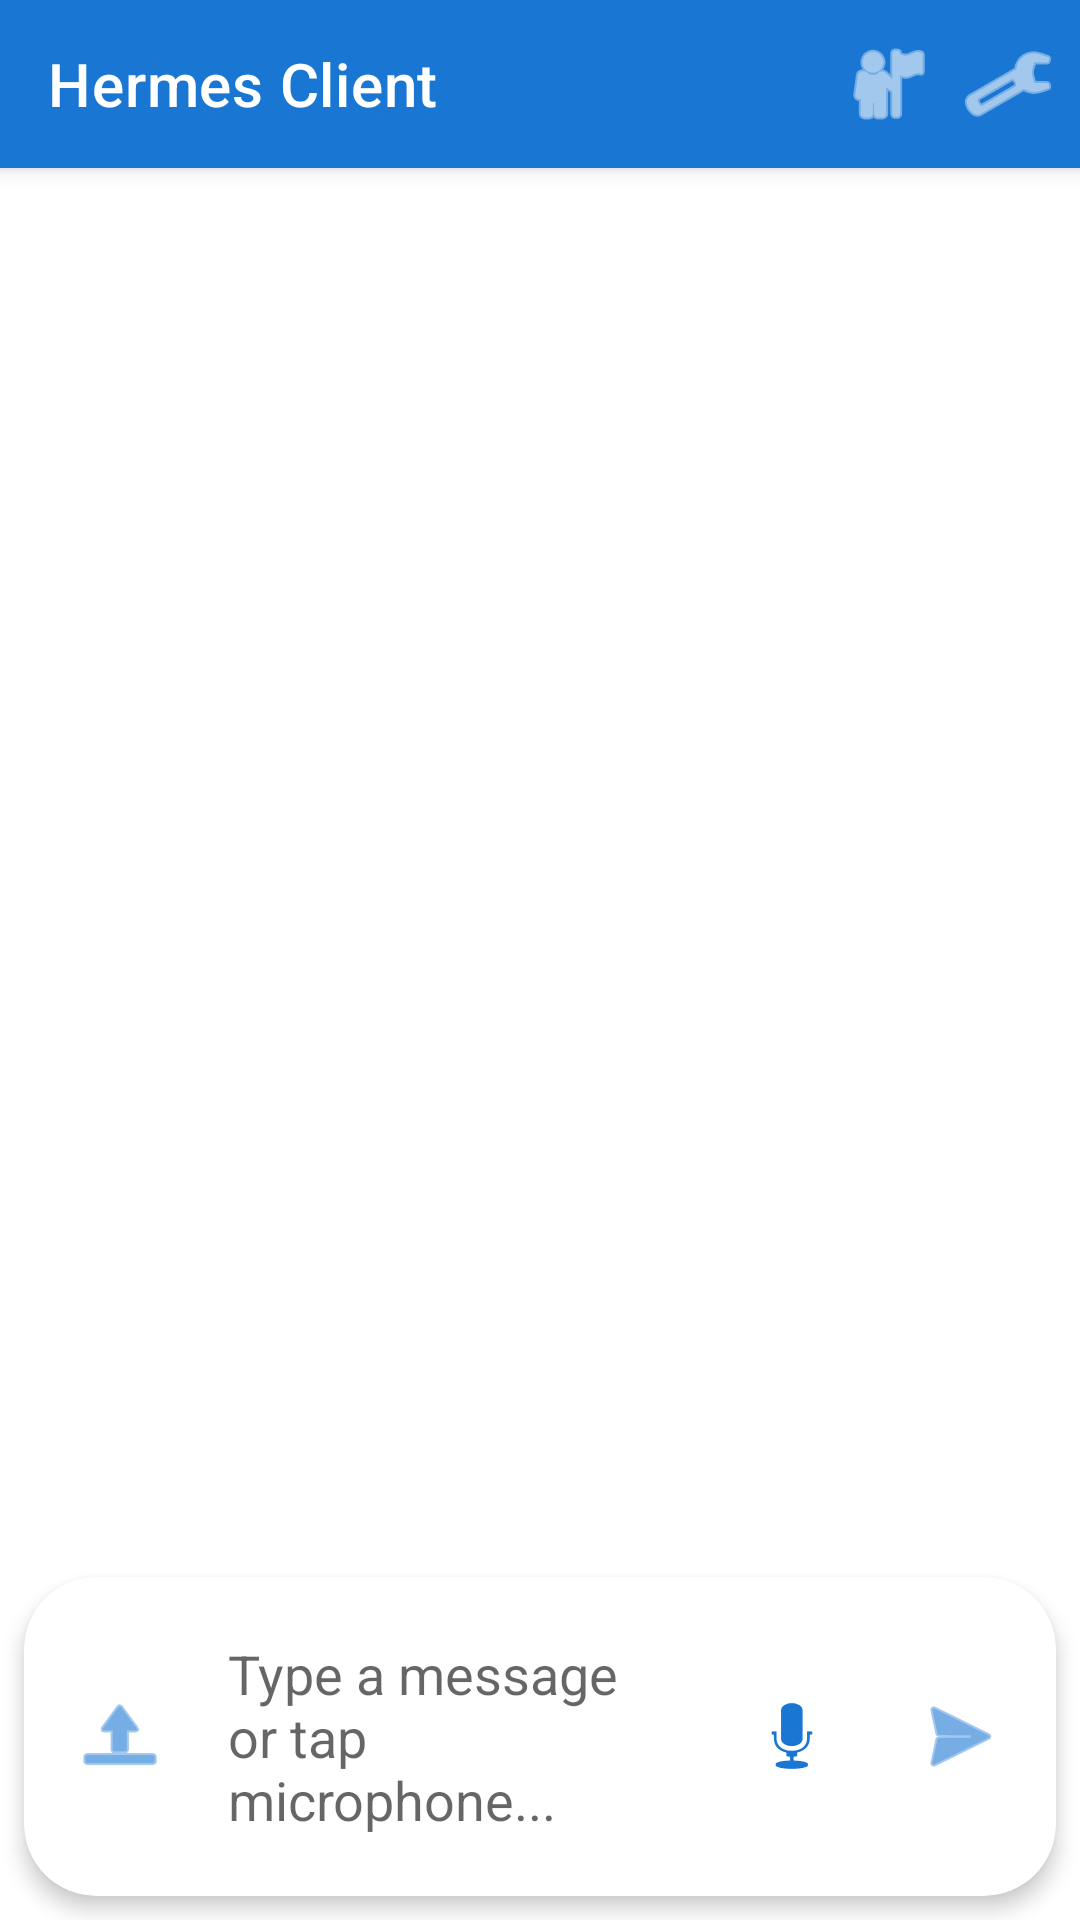

Icon bounding boxes for this 1080px×1920px phone screenshot, format (left=x1, top=y1, right=x2, bottom=y2):
Attach file: (left=83, top=1704, right=157, bottom=1765)
Send: (left=930, top=1706, right=992, bottom=1767)
Settings: (left=965, top=51, right=1051, bottom=117)
Voice input: (left=771, top=1703, right=813, bottom=1769)
